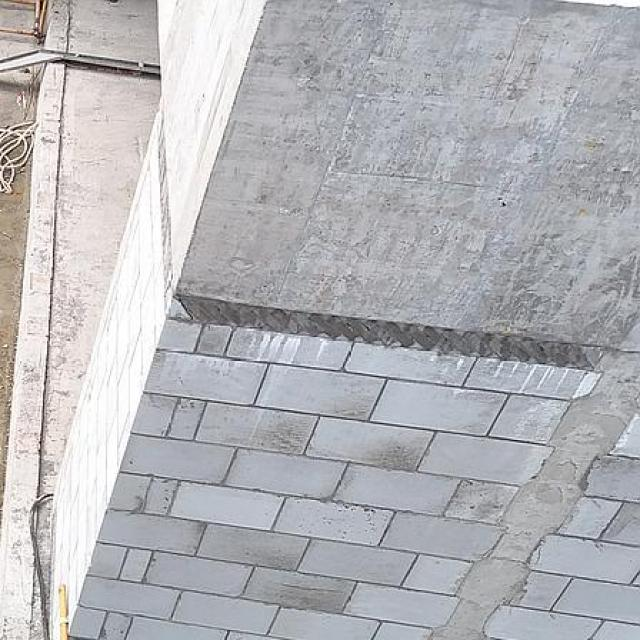Guardrail: (59, 583, 70, 640)
